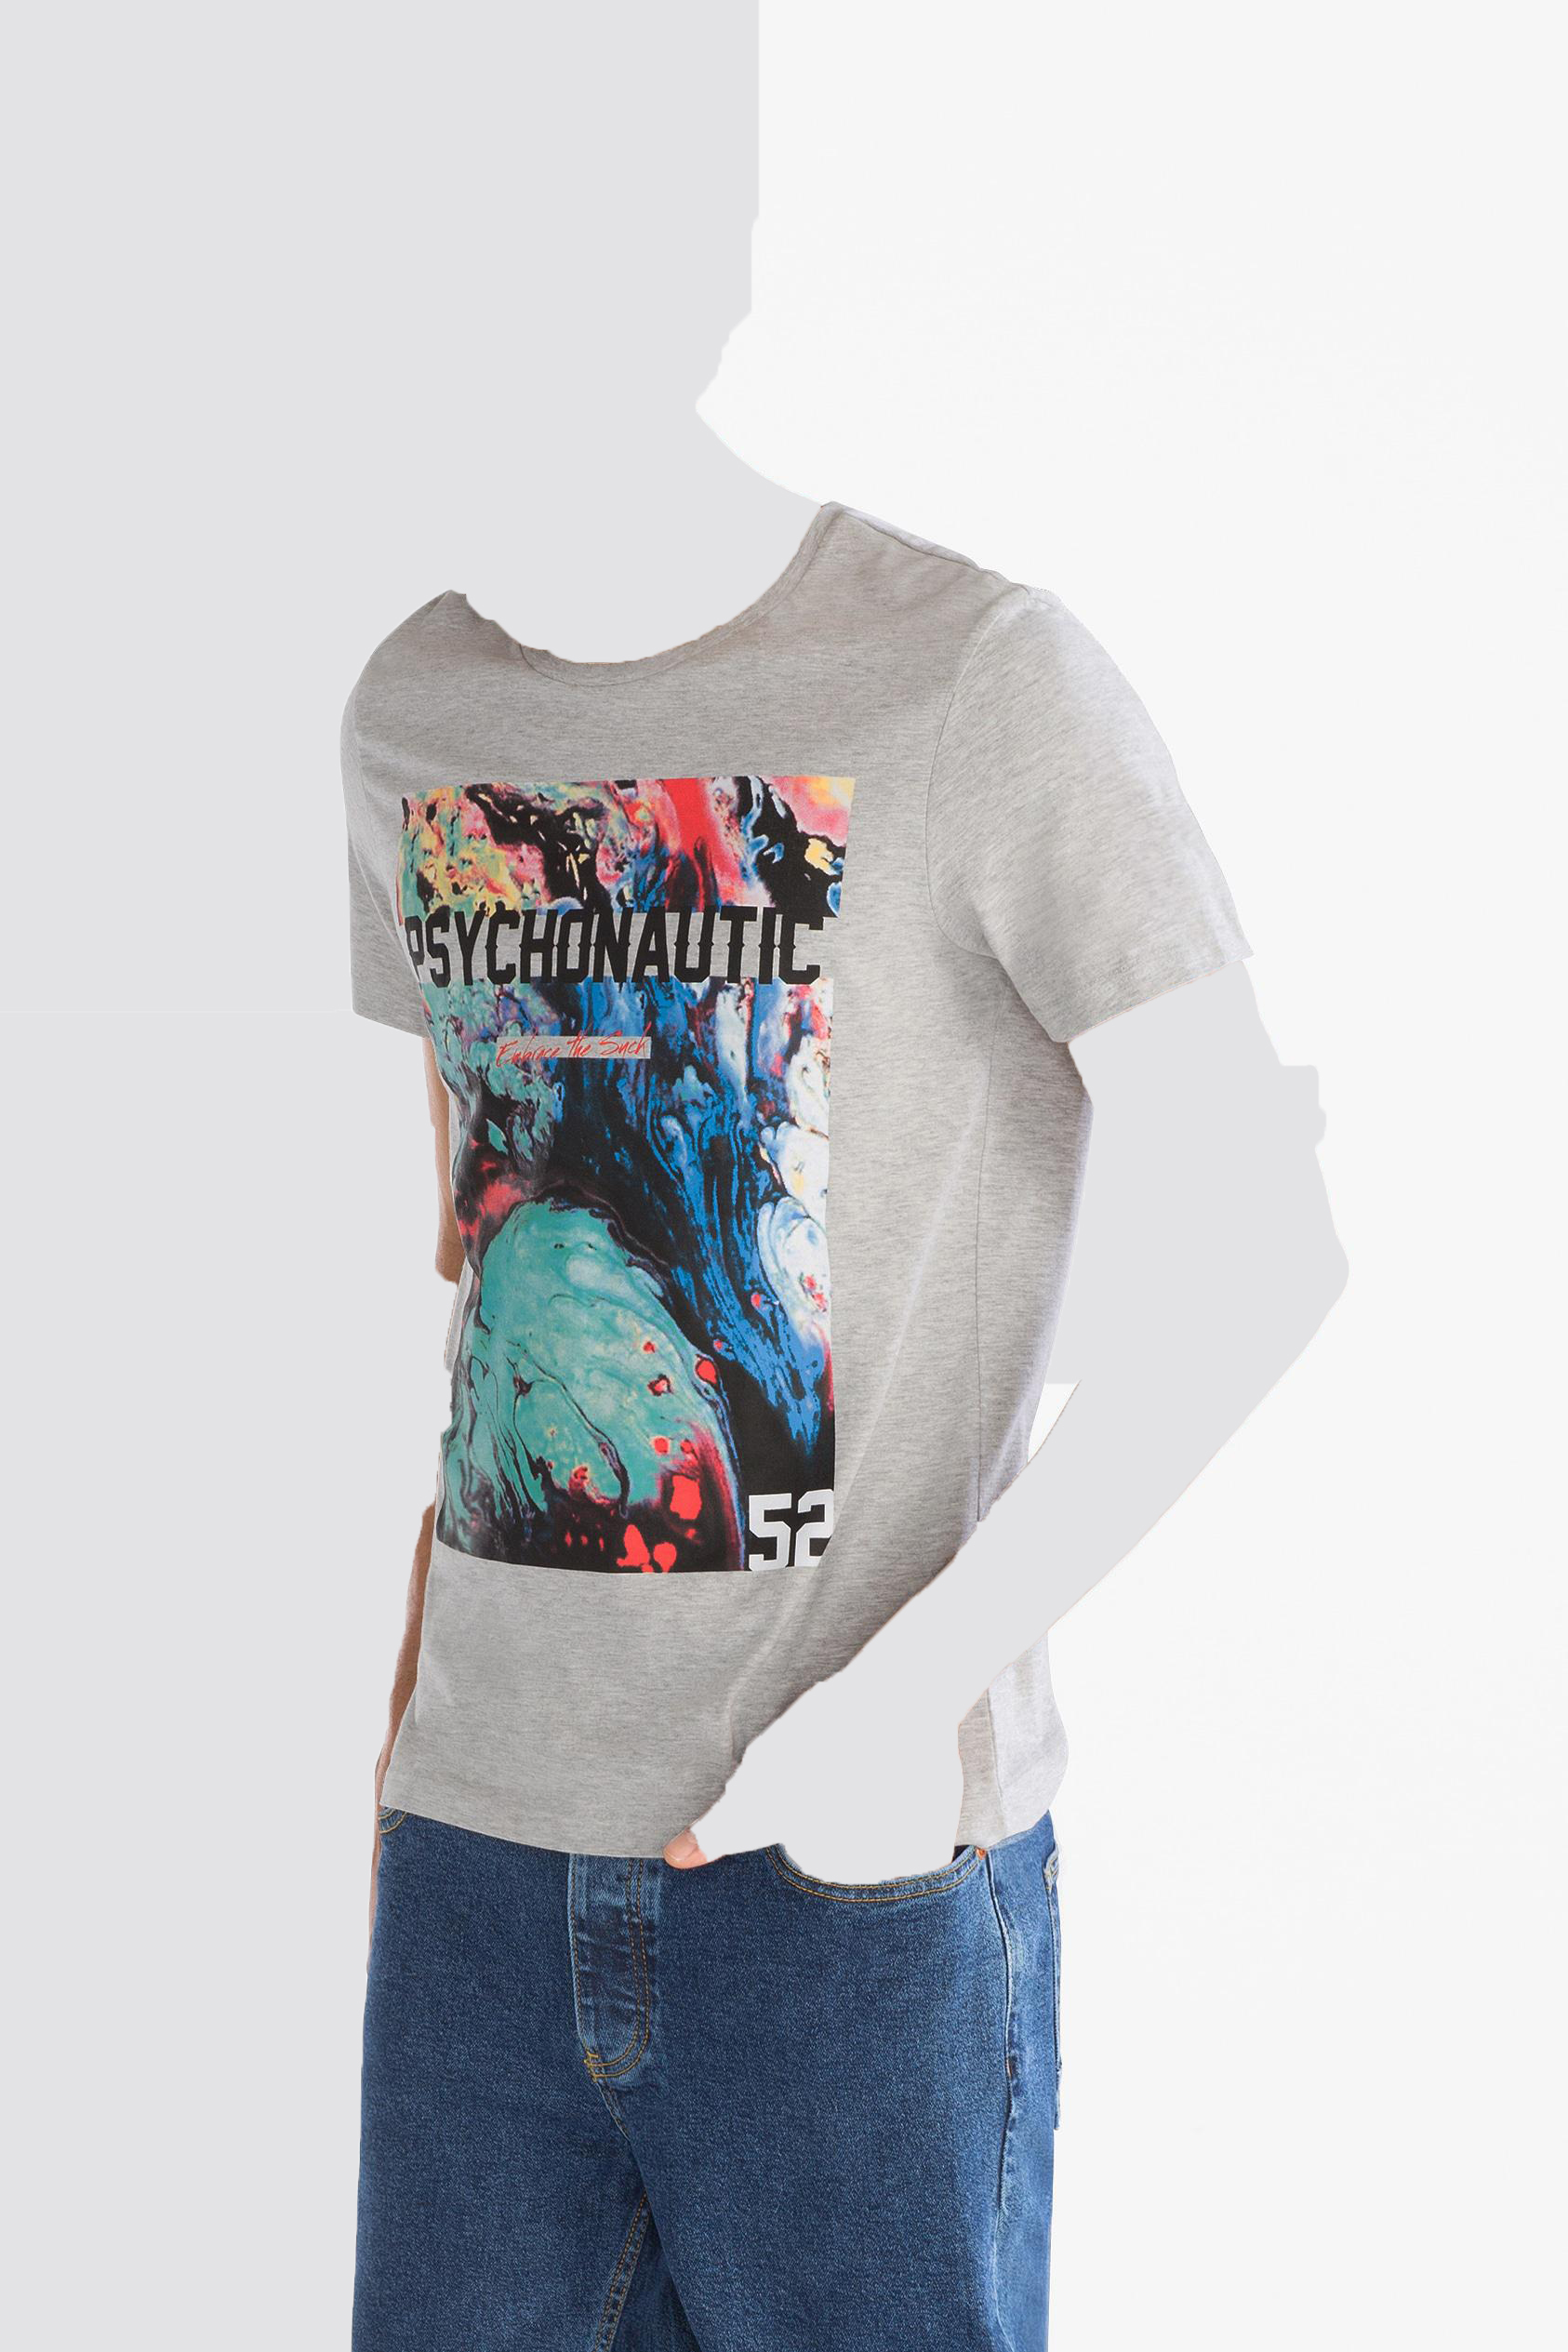teeshirt: (324, 490, 1265, 1890)
